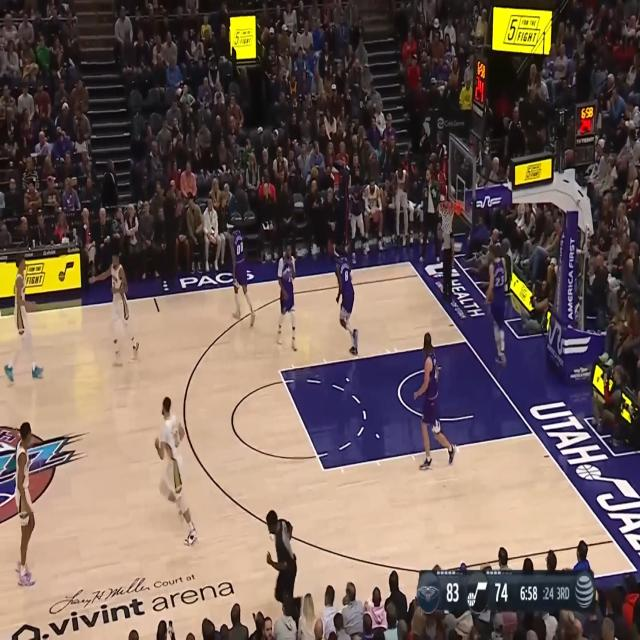Ball: (486, 288, 494, 302)
Clock: (473, 55, 486, 108), (576, 104, 596, 136)
Hoop: (438, 201, 457, 235)
Overlay: (416, 569, 596, 614)
Player: (154, 396, 199, 548), (88, 249, 140, 368), (414, 332, 457, 470), (4, 253, 44, 384), (13, 421, 36, 588), (226, 220, 256, 328), (485, 244, 508, 367), (332, 247, 358, 355), (276, 242, 298, 352)
Ref: (265, 508, 307, 634), (440, 217, 454, 298)
Scoreboard: (417, 570, 572, 614)
